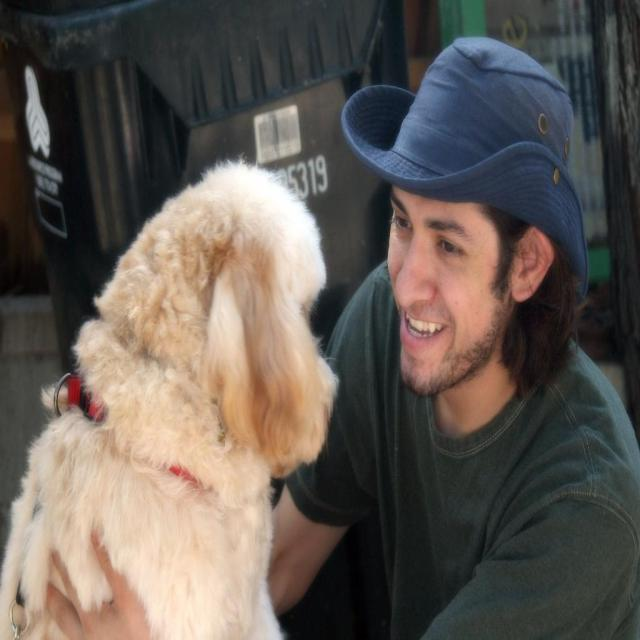Hat: (341, 35, 590, 306)
